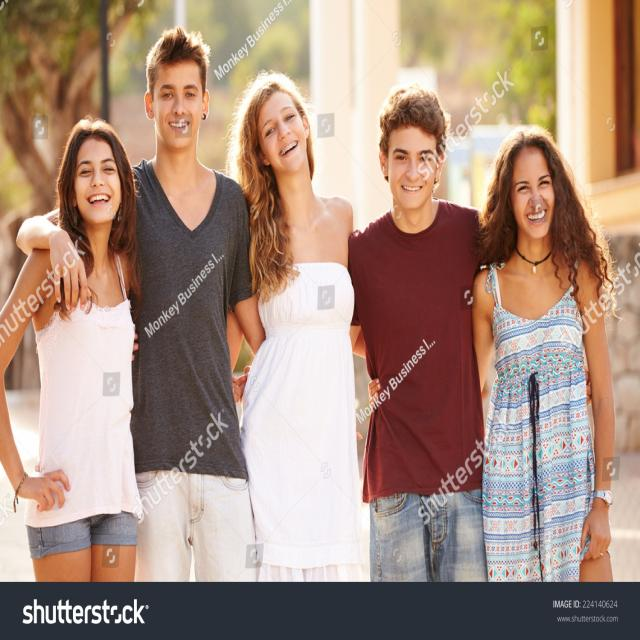body: (8, 22, 268, 585), (367, 125, 618, 582), (223, 69, 365, 582), (348, 84, 486, 583), (0, 113, 140, 583)
